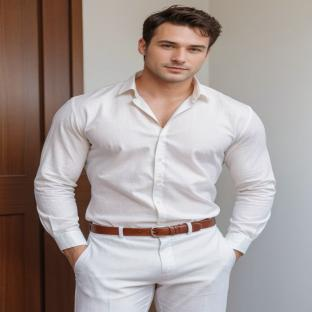Human: (34, 5, 275, 312)
